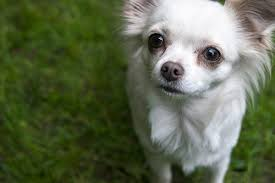chihuahua: (115, 2, 268, 183)
